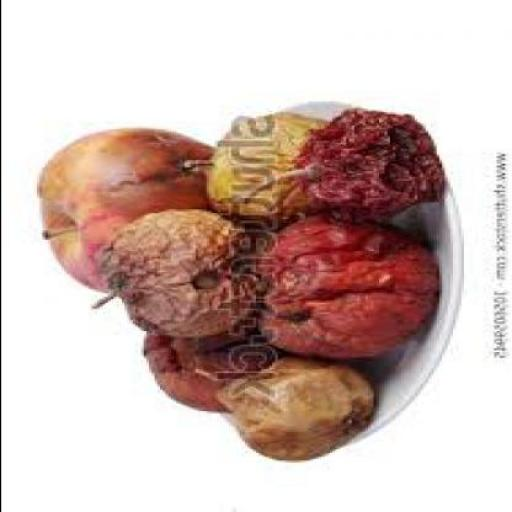biodegradable: (32, 126, 220, 289), (246, 216, 436, 356), (238, 106, 444, 221), (88, 206, 258, 334), (210, 354, 376, 458), (181, 112, 326, 224), (137, 328, 268, 408)
